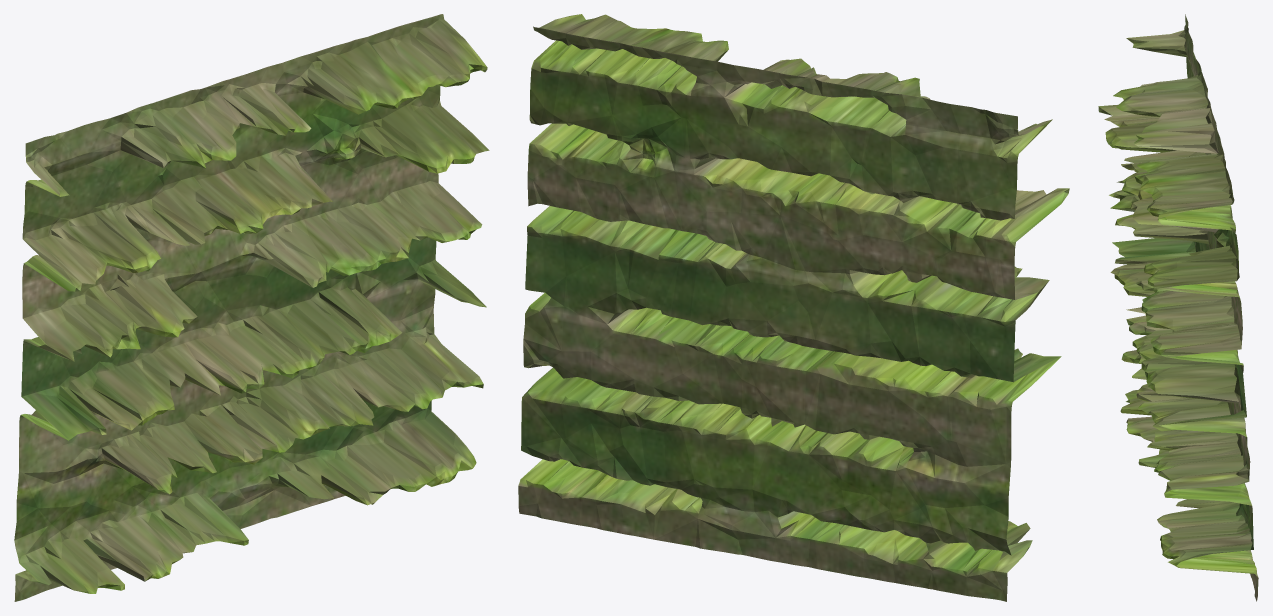
The model's file is map_180_50.obj.
3 views of the same model, side by side, from view 1: azimuth 30°, elevation 25°; view 2: azimuth 150°, elevation 25°; view 3: azimuth 270°, elevation 25° (orthographic). The views are drawn at different scales.
Parts seen in each view (by area): view 1: grp1; view 2: grp1; view 3: grp1.
Boxes of the visible parts, x1,y1,x2,y2 form: grp1: (14, 14, 489, 601); grp1: (518, 14, 1069, 601); grp1: (1098, 14, 1258, 601).
Size of the model in its own units: 10 by 10 by 3.62.
1 material, 1 textured.
